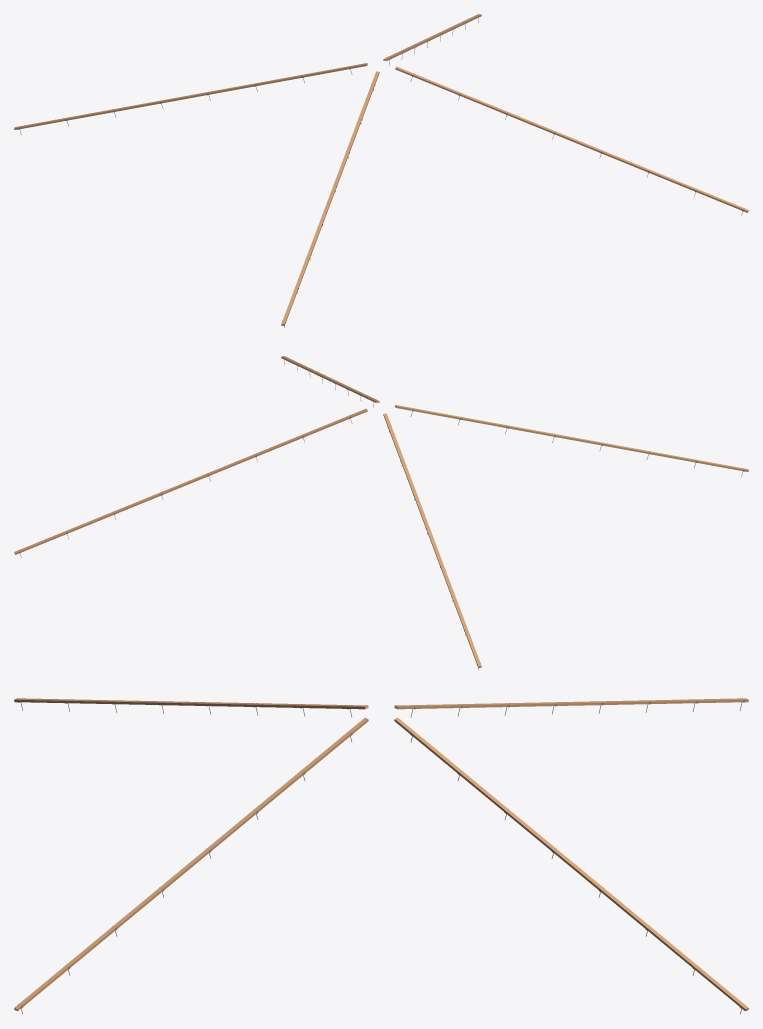
The picture shows the model from 3 angles, top to bottom: view 1: azimuth 30°, elevation 25°; view 2: azimuth 150°, elevation 25°; view 3: azimuth 270°, elevation 25°; orthographic projection. The views are drawn at different scales.
Visible parts, largest first — view 1: Konterlattung Ecken.002, Konterlattung Ecken.004, Konterlattung Ecken.005; view 2: Konterlattung Ecken.003, Konterlattung Ecken.005, Konterlattung Ecken.004; view 3: Konterlattung Ecken.002, Konterlattung Ecken.003, Konterlattung Ecken.004, Konterlattung Ecken.005.
Boxes of the visible parts, x1,y1,x2,y2 form: Konterlattung Ecken.002: (395, 66, 748, 212); Konterlattung Ecken.004: (14, 63, 367, 129); Konterlattung Ecken.005: (281, 71, 379, 325); Konterlattung Ecken.003: (14, 408, 367, 554); Konterlattung Ecken.005: (395, 405, 748, 471); Konterlattung Ecken.004: (383, 413, 481, 667); Konterlattung Ecken.002: (14, 718, 368, 1011); Konterlattung Ecken.003: (394, 718, 748, 1011); Konterlattung Ecken.004: (394, 698, 748, 709); Konterlattung Ecken.005: (14, 698, 368, 709).
Size of the model in its own units: 11.45 by 2.58 by 11.44.
